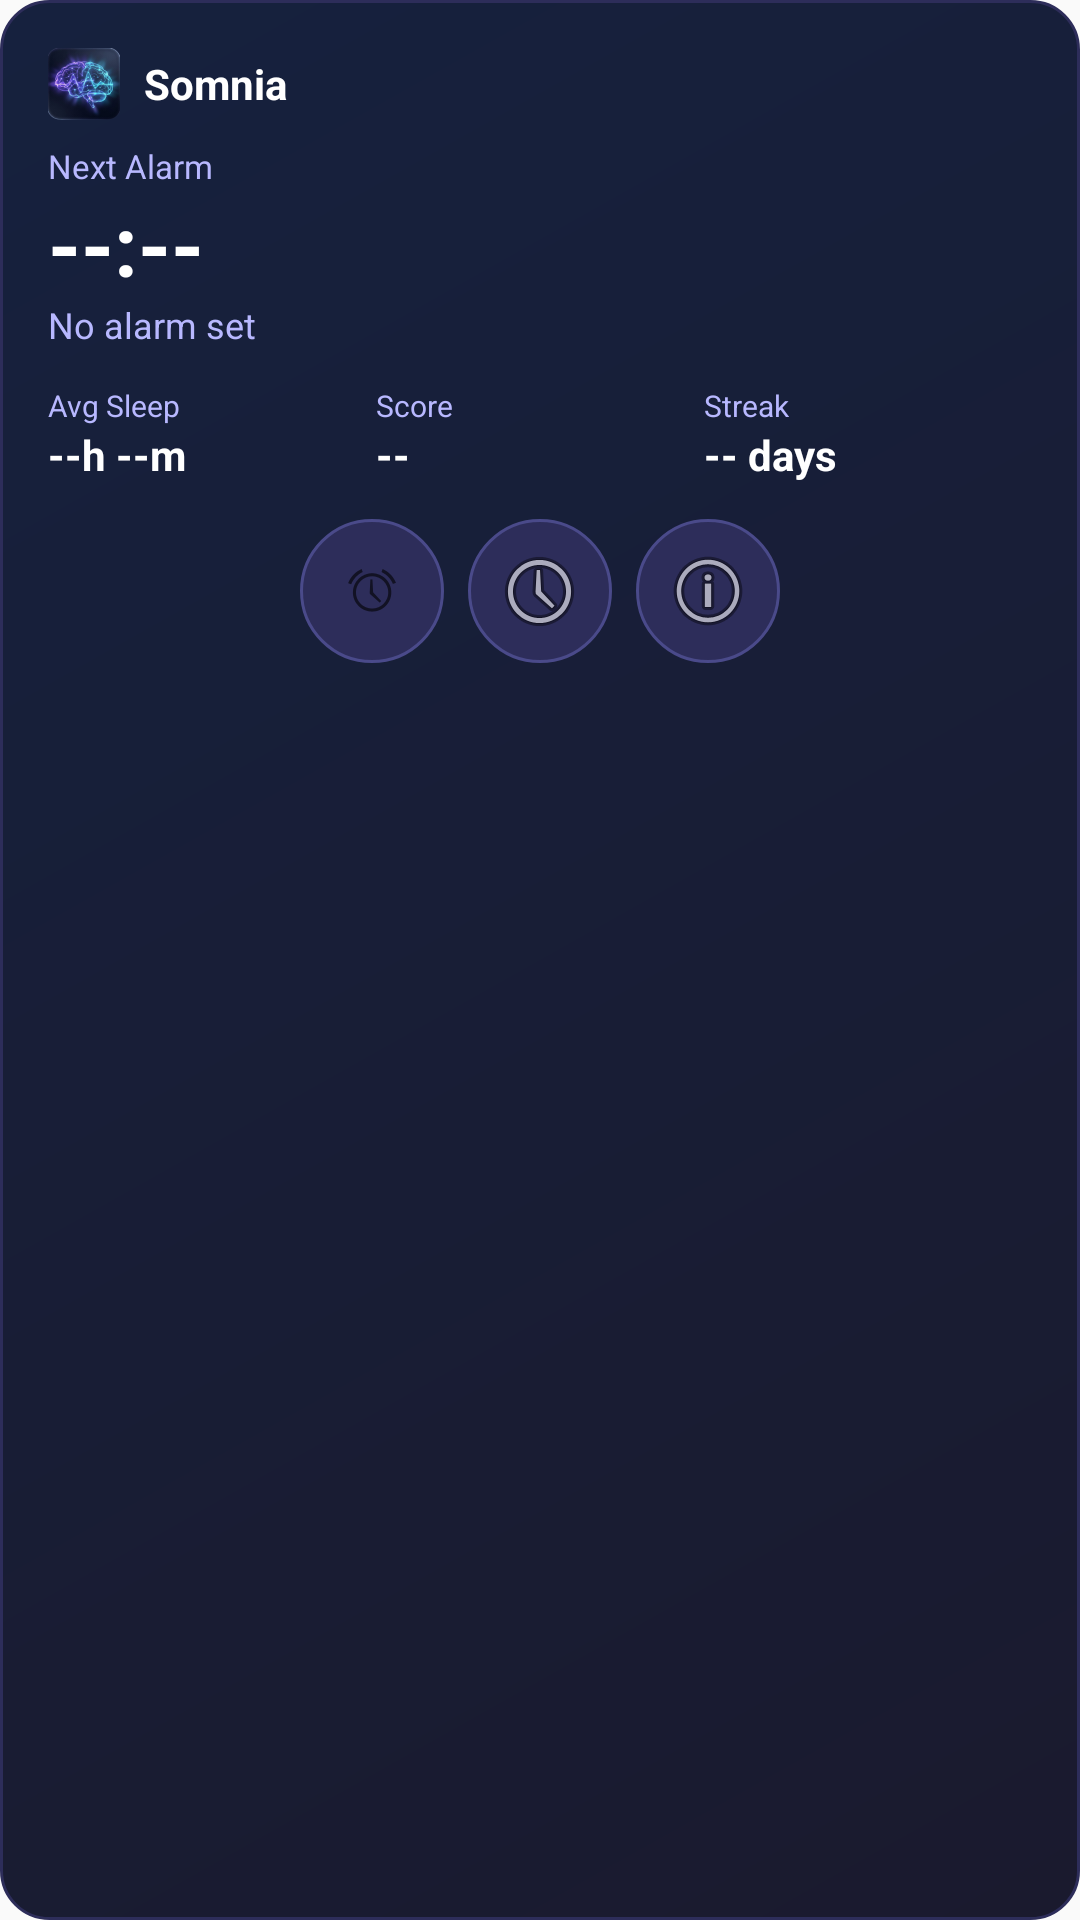

Where to tap for icons on this 1080px x 1920px app screen, as (x=x, y=y):
Set Alarm: (x=372, y=591)
